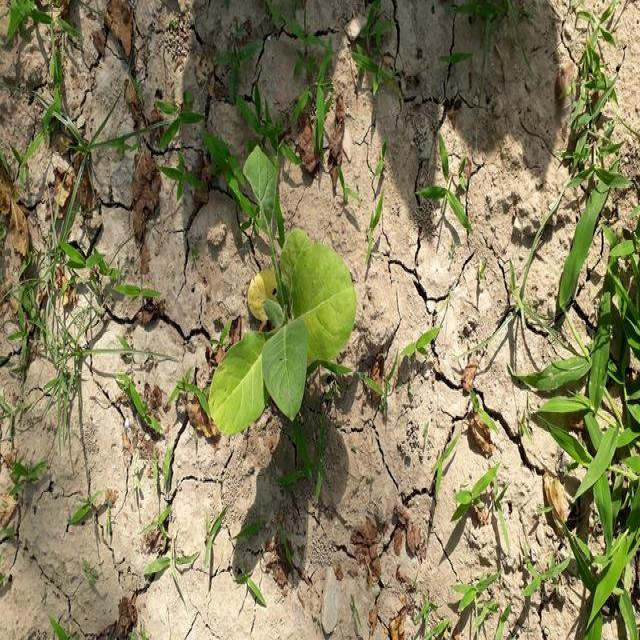crop: (206, 150, 354, 427)
